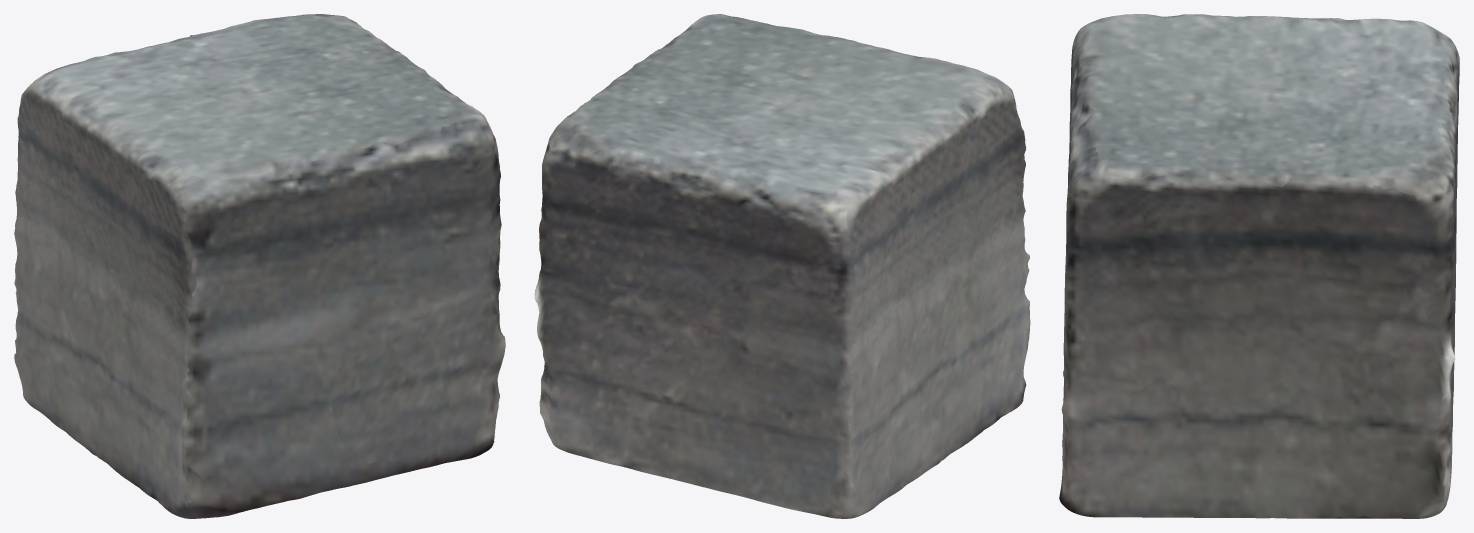
Rendered from p1037_tumbled.glb.
The picture shows the model from 3 angles, left to right: view 1: azimuth 30°, elevation 25°; view 2: azimuth 150°, elevation 25°; view 3: azimuth 270°, elevation 25°; orthographic projection. The views are drawn at different scales.
Parts seen in each view (by area): view 1: Object_2; view 2: Object_2; view 3: Object_2.
Part boxes in pixels (x1,y1,x2,y2): Object_2: (14,14,505,518); Object_2: (534,14,1030,518); Object_2: (1059,14,1459,518).
Bounding box in the file's own units: 0.0813 × 0.0776 × 0.0806.
1 material, 1 textured.
